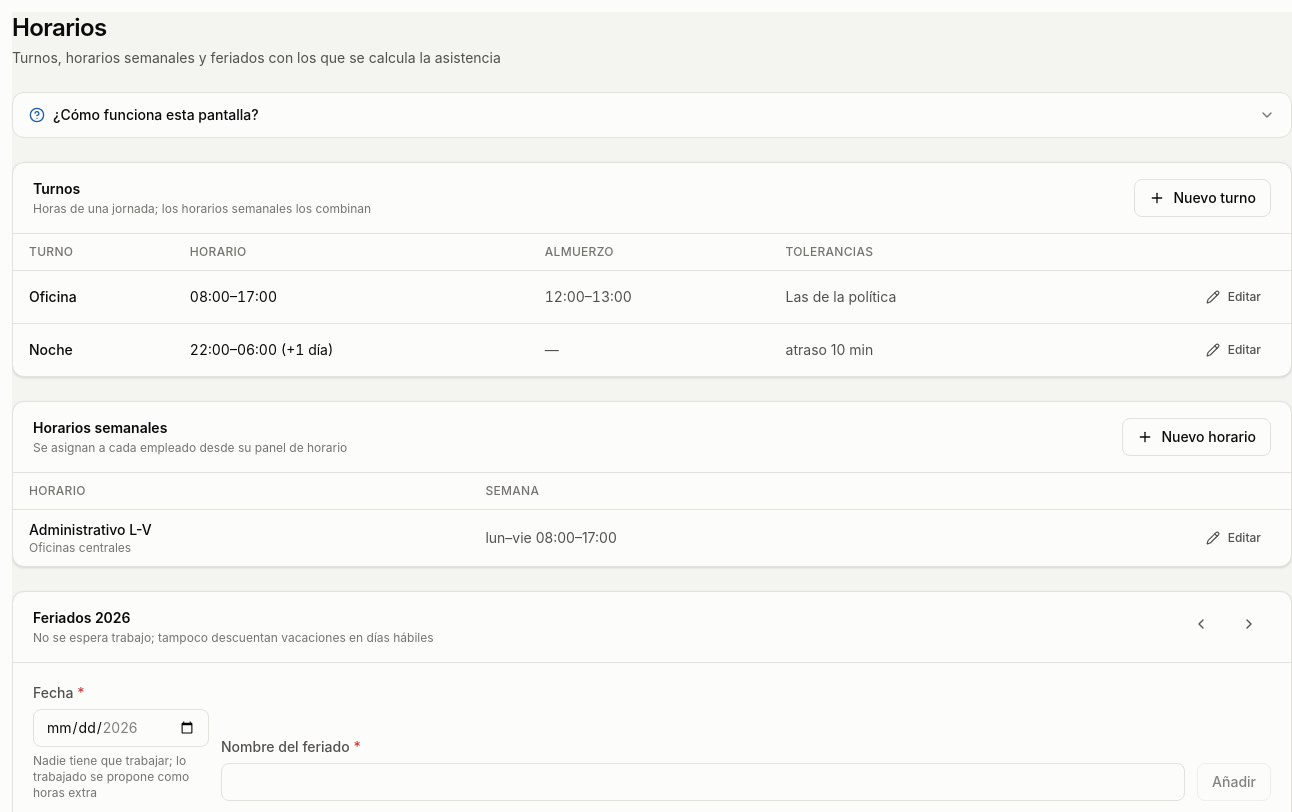
Scenario: SchedulesPage — holidays › shows a year at a time
The width and height of the screenshot is (1292, 812).
Click the button named "Año siguiente" at [1249, 624], box [1227,608,1271,640]
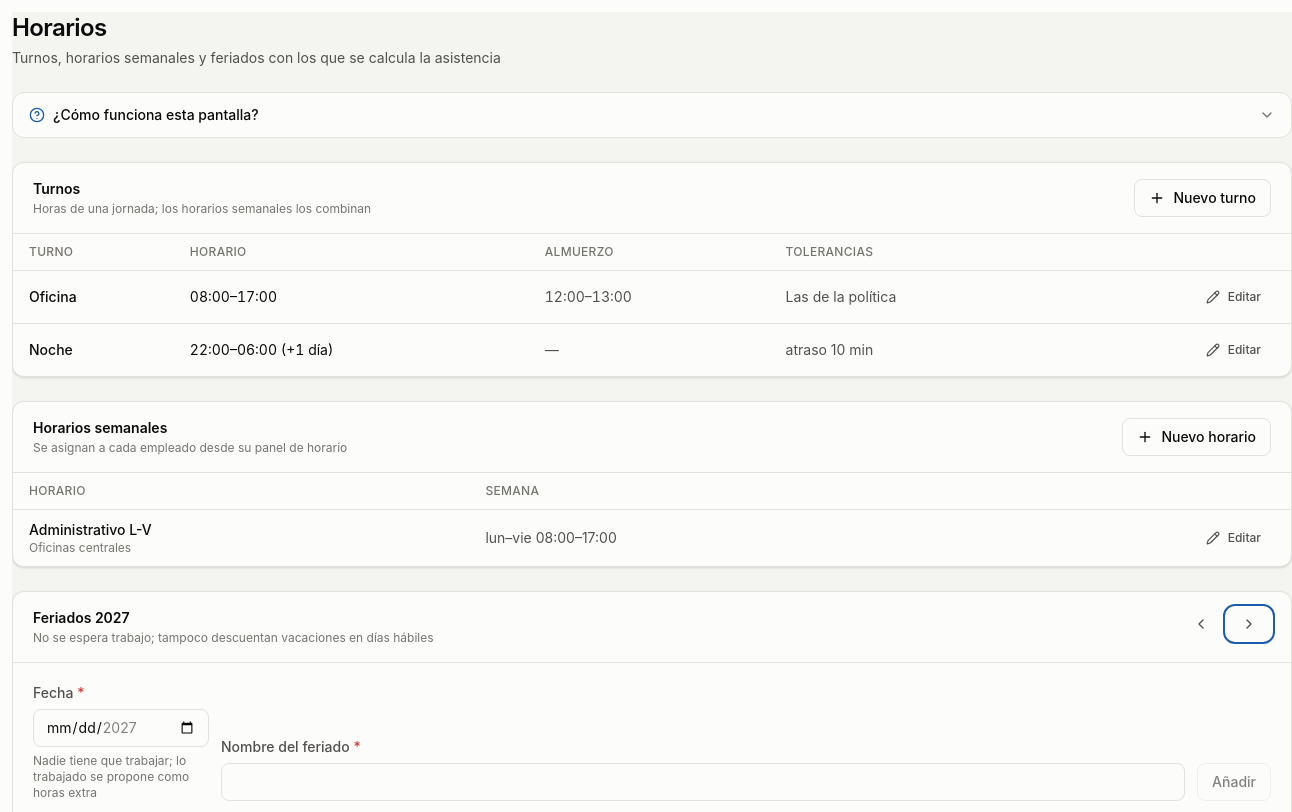
Check: the heading "Feriados 2027" is shown, box [33,609,130,626]
